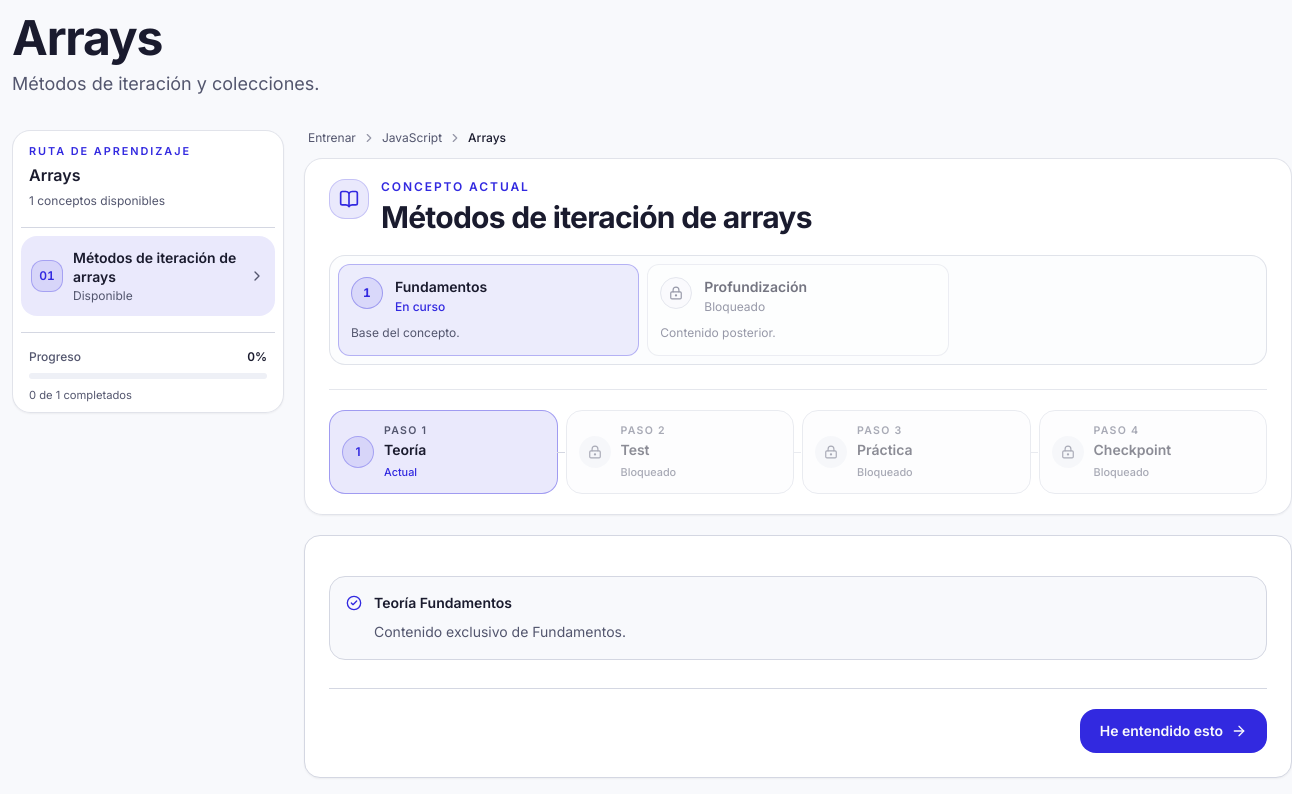
Scenario: TopicPage (T057) › carga y completa la teoría de foundation antes de desbloquear el test
(page scrolled)
Expected: the text "Contenido exclusivo de Fundamentos." is shown, left=374, top=621, right=626, bottom=644
Expected: the text "En curso" is shown, left=395, top=299, right=445, bottom=314
Click the button "He entendido esto" at (1173, 731), box left=1080, top=709, right=1267, bottom=753
(page scrolled)
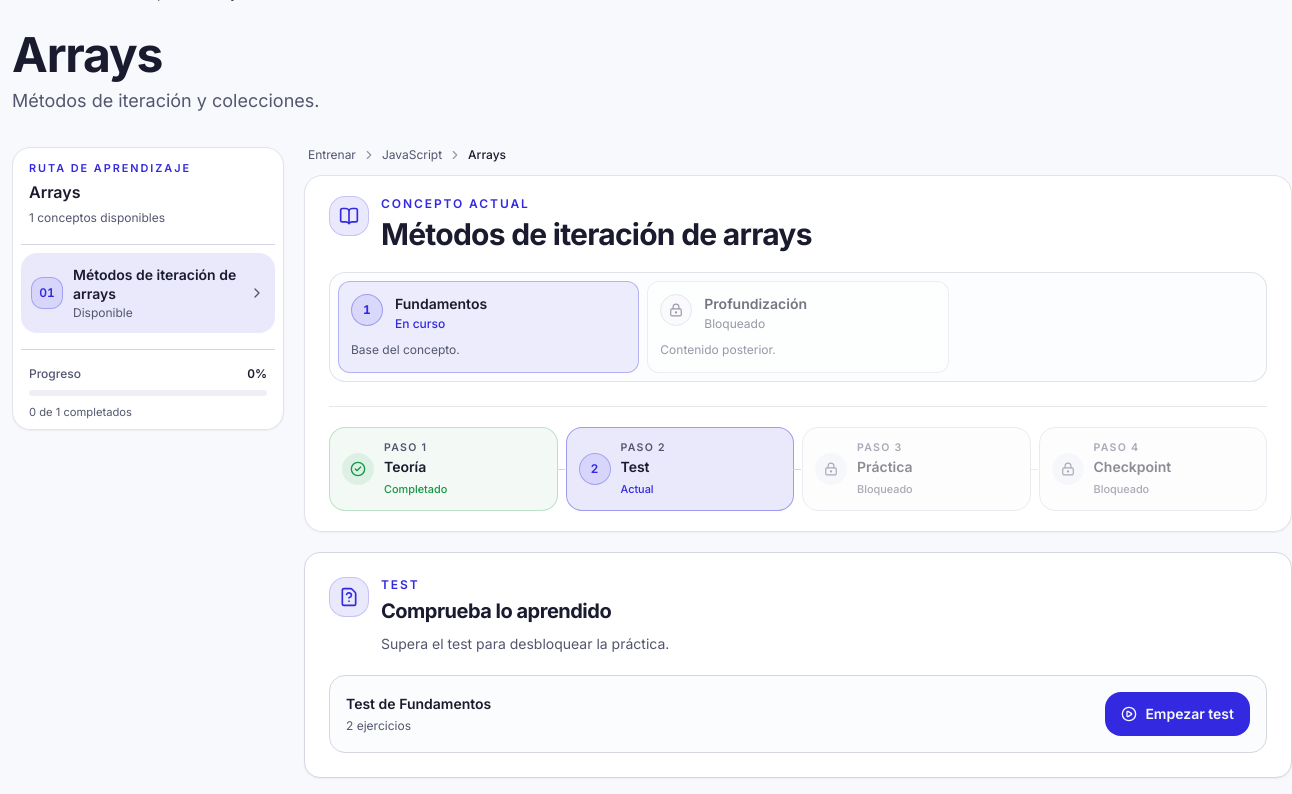
Now the button "2 Paso 2 Test Actual" is enabled, box left=566, top=426, right=794, bottom=511
Now the text "Completado" is shown, box left=384, top=482, right=447, bottom=496
Now the text "Actual" is shown, box left=620, top=482, right=654, bottom=496
